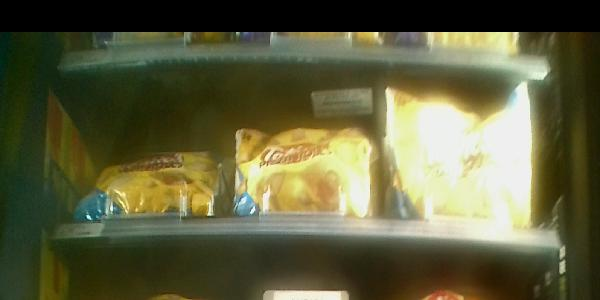icecream: (379, 68, 542, 229), (66, 130, 226, 225), (236, 114, 378, 214)
